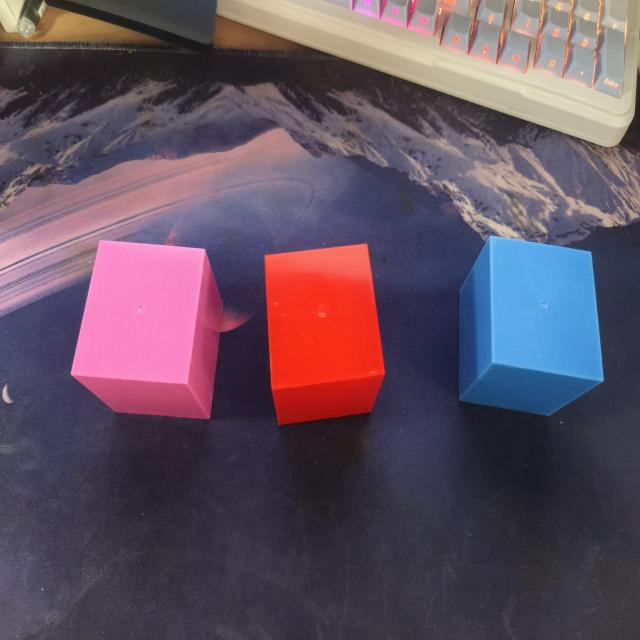blue: (455, 229, 607, 436)
pink: (64, 234, 225, 422)
red: (262, 240, 391, 425)
